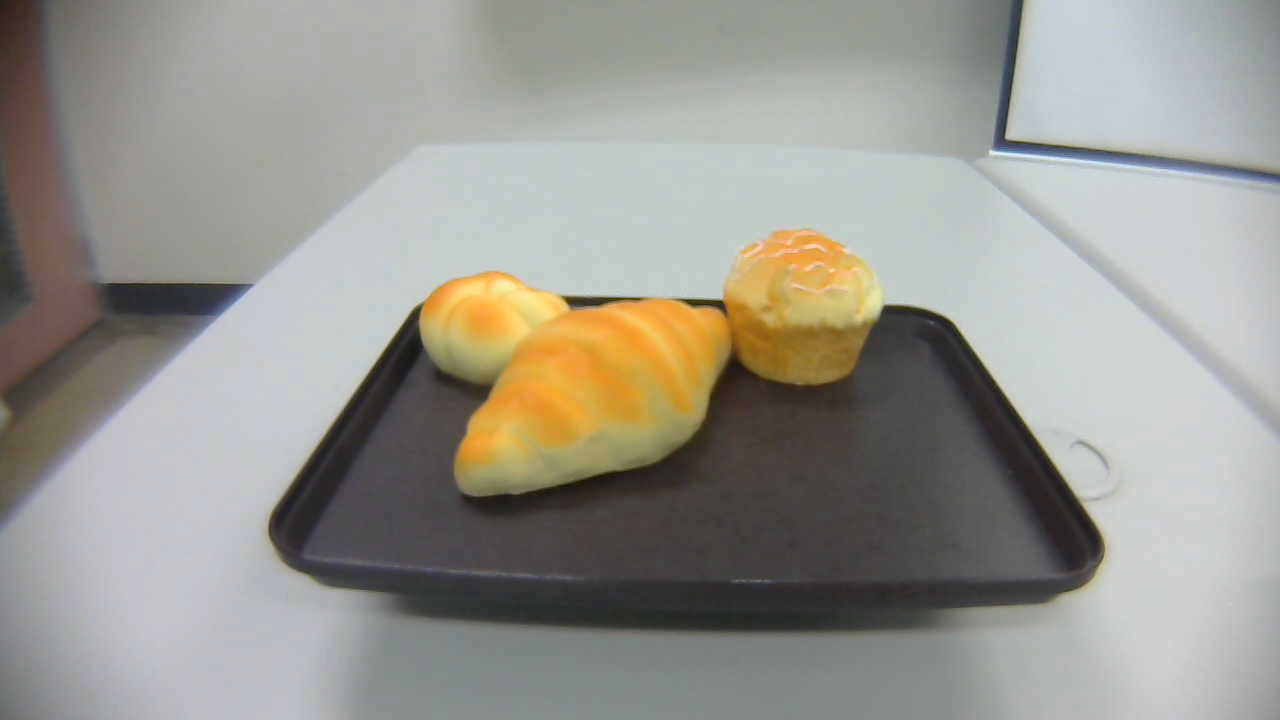croissant: (450, 295, 733, 497)
cupcake: (724, 226, 886, 387)
twist bread: (418, 272, 576, 386)
